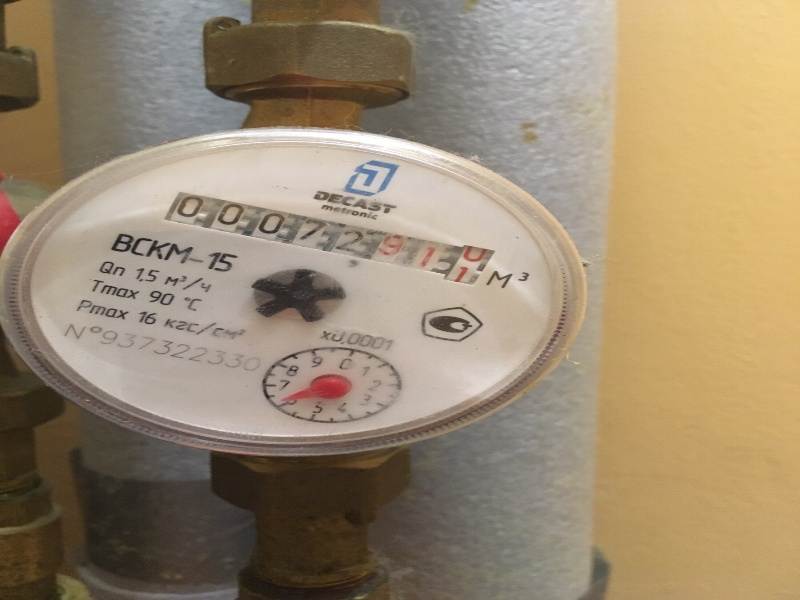dial: (156, 188, 498, 272)
